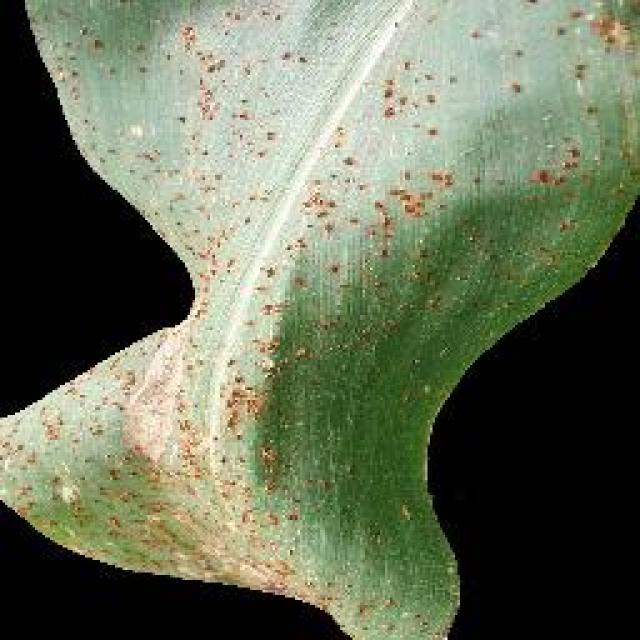Corn Common Rust: (120, 77, 597, 640)
